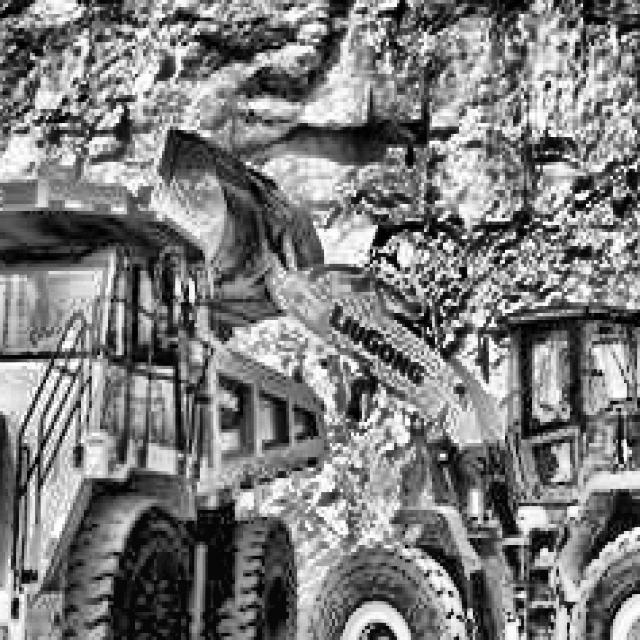buldozerpayloadergrader: (137, 105, 640, 639)
dump_truck: (0, 154, 327, 640)
